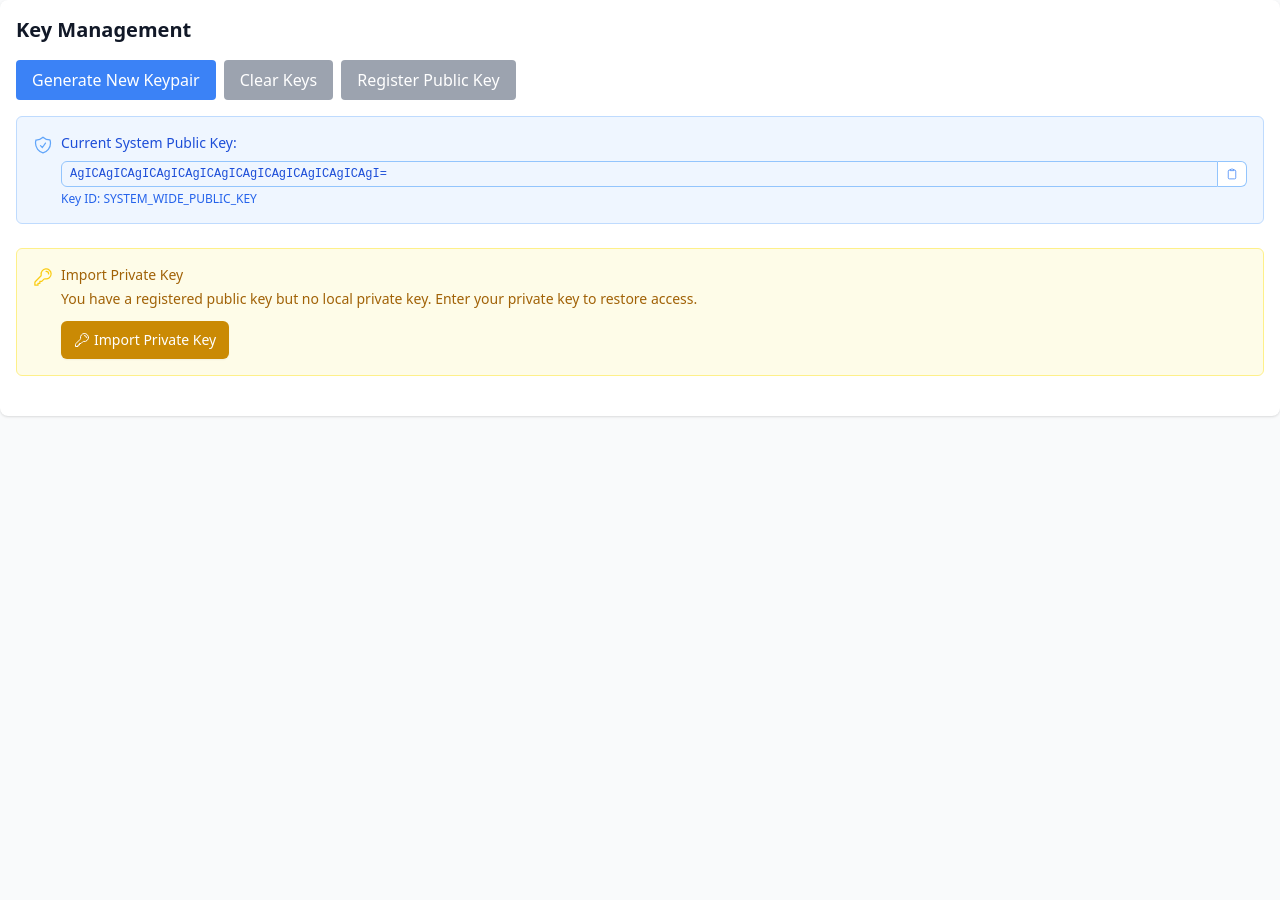
Test case: Key lifecycle workflow › validates private key import correctly
// Click the import button to show the form
Click the button "Import Private Key" at point(145, 340), box [61,321,229,359]
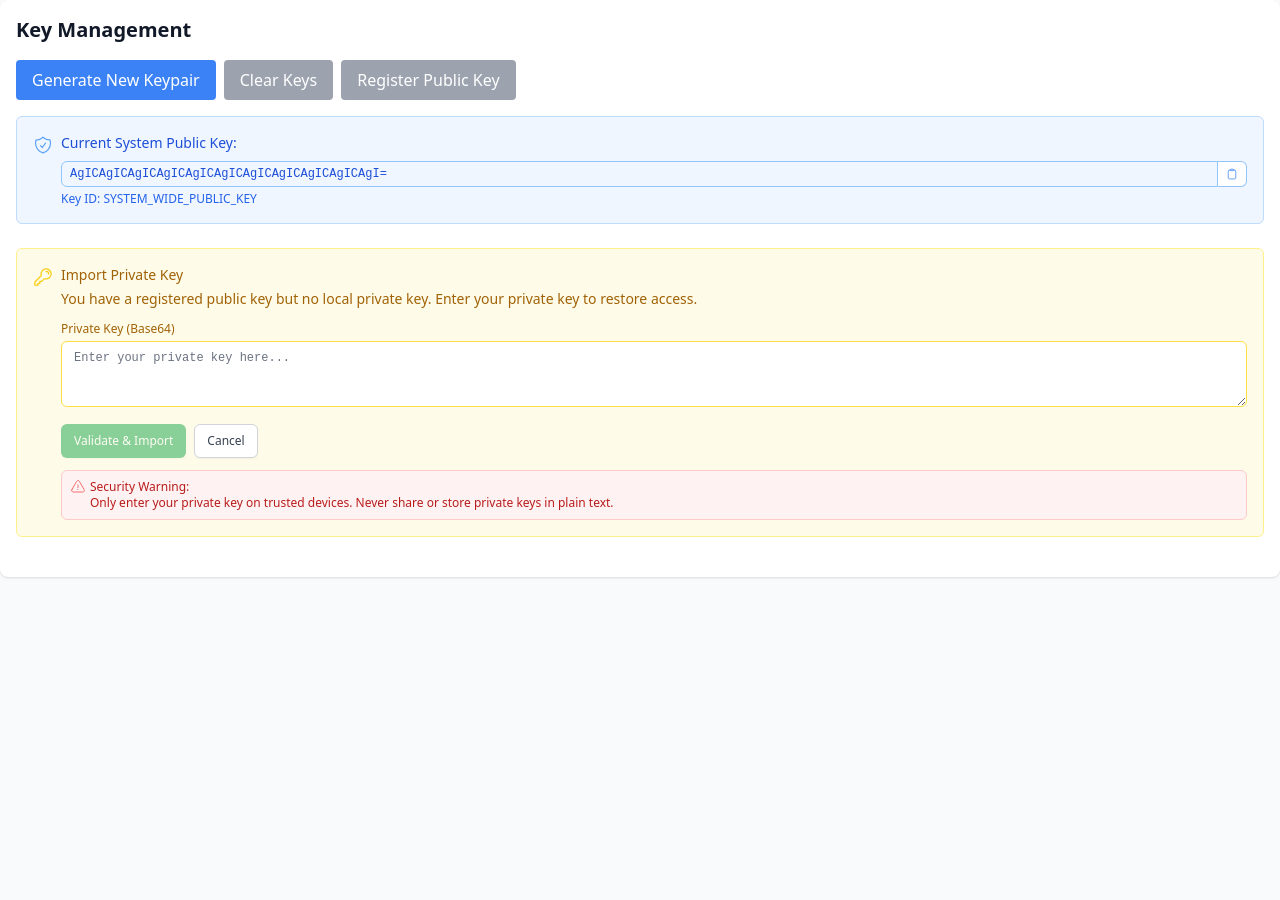
Expected: the text box with placeholder "Enter your private key here..." is shown
// Test with invalid private key
Type "invalid-key" into the text box with placeholder "Enter your private key here..." at point(654, 374), box [61,341,1247,407]
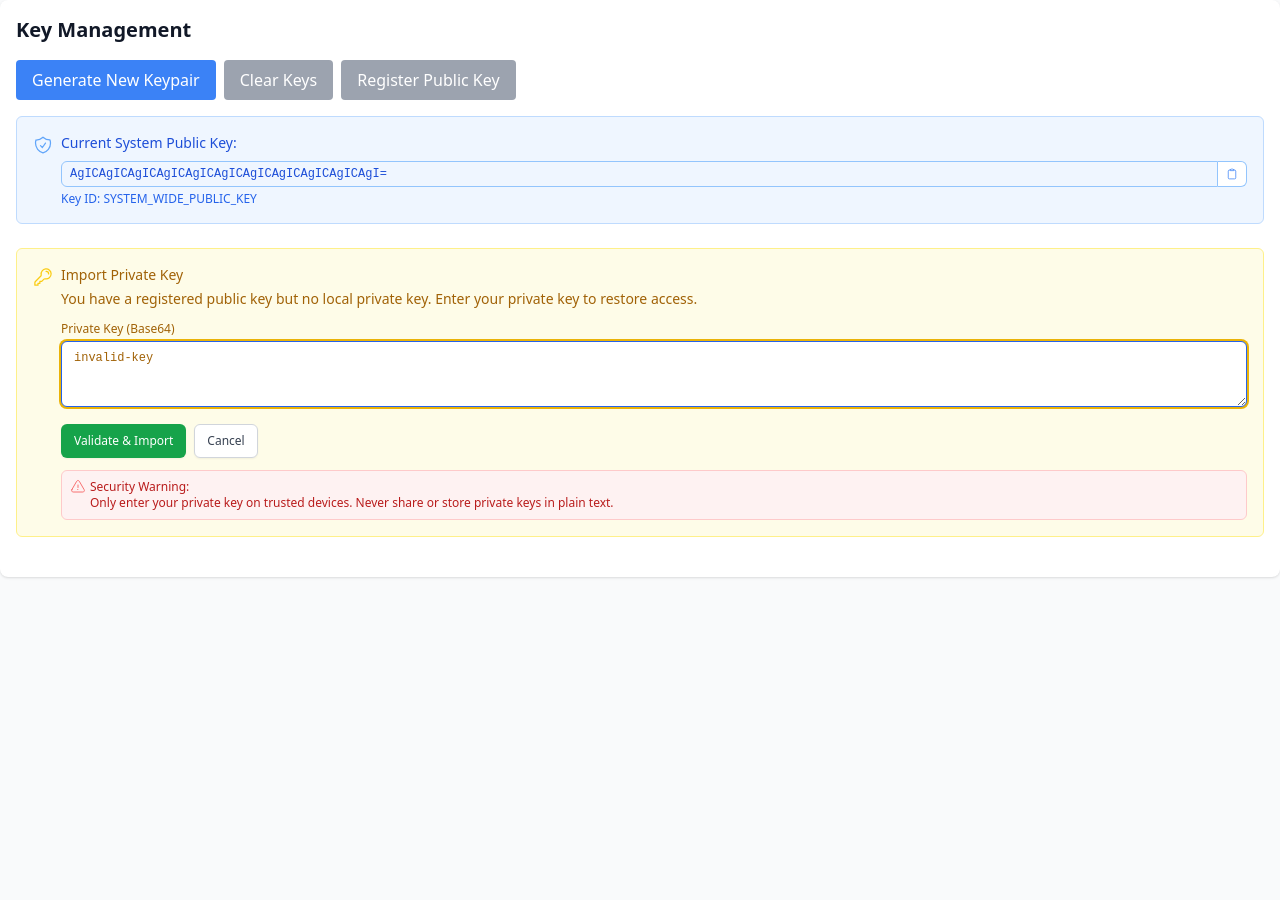
Click the button "Validate & Import" at point(124, 441), box [61,424,186,458]
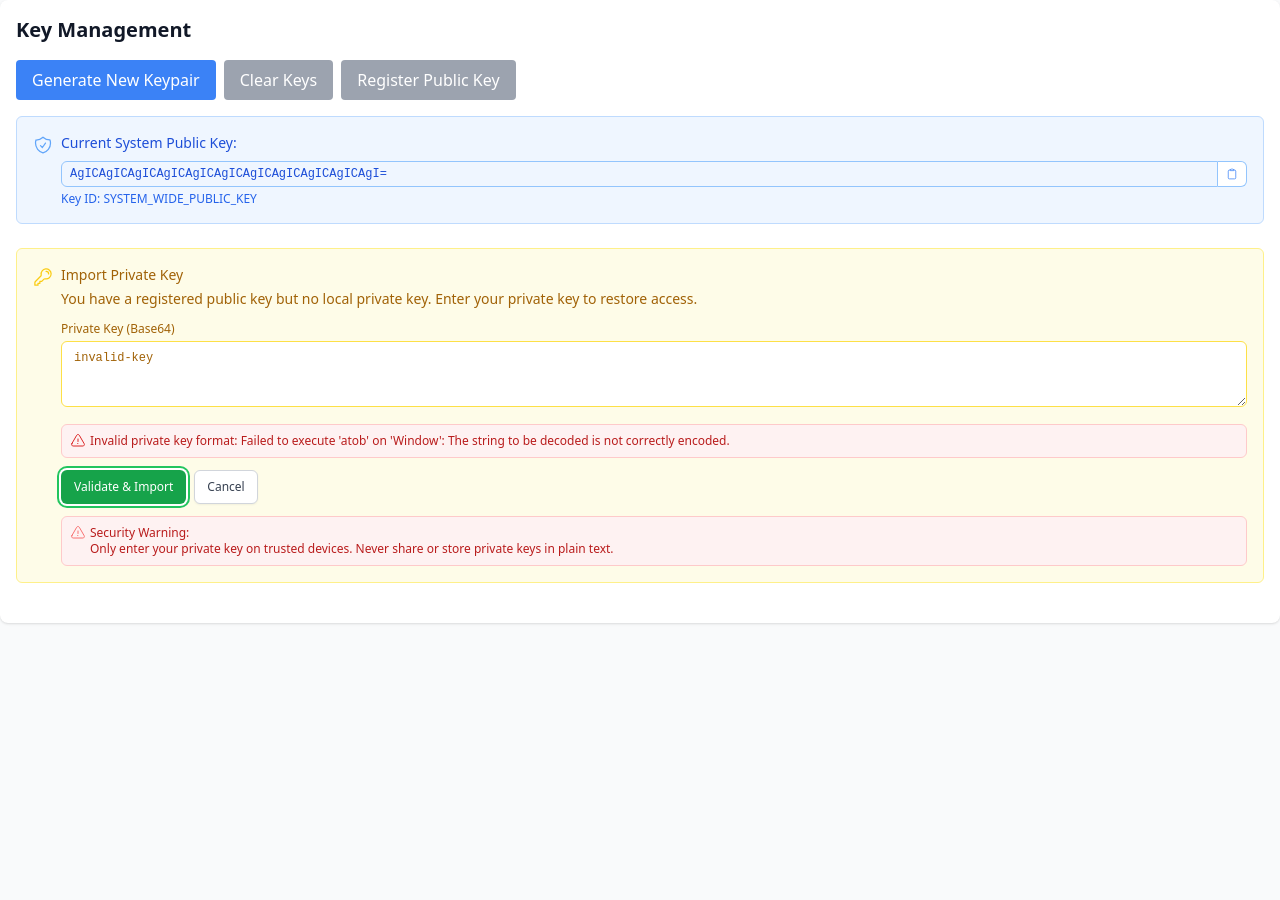
Expected: the text "Invalid private key format" is shown, [90,432,730,449]
// Clear the invalid input
Replace the text in the text box with placeholder "Enter your private key here..." with "AQEBAQEBAQEBAQEBAQEBAQEBAQEBAQEBAQEBAQE=" at point(654, 374), box [61,341,1247,407]
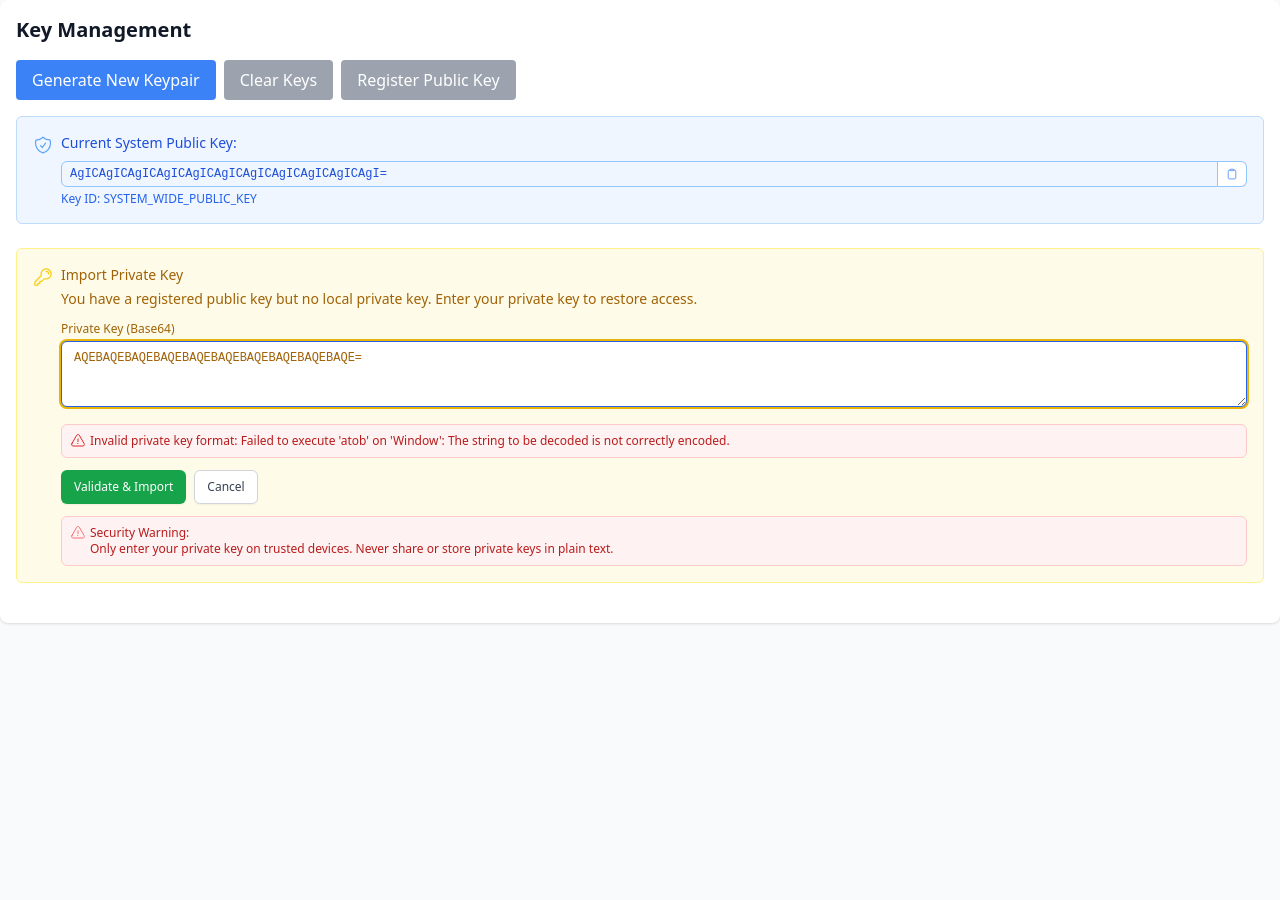
Click the button "Validate & Import" at point(124, 487), box [61,470,186,504]
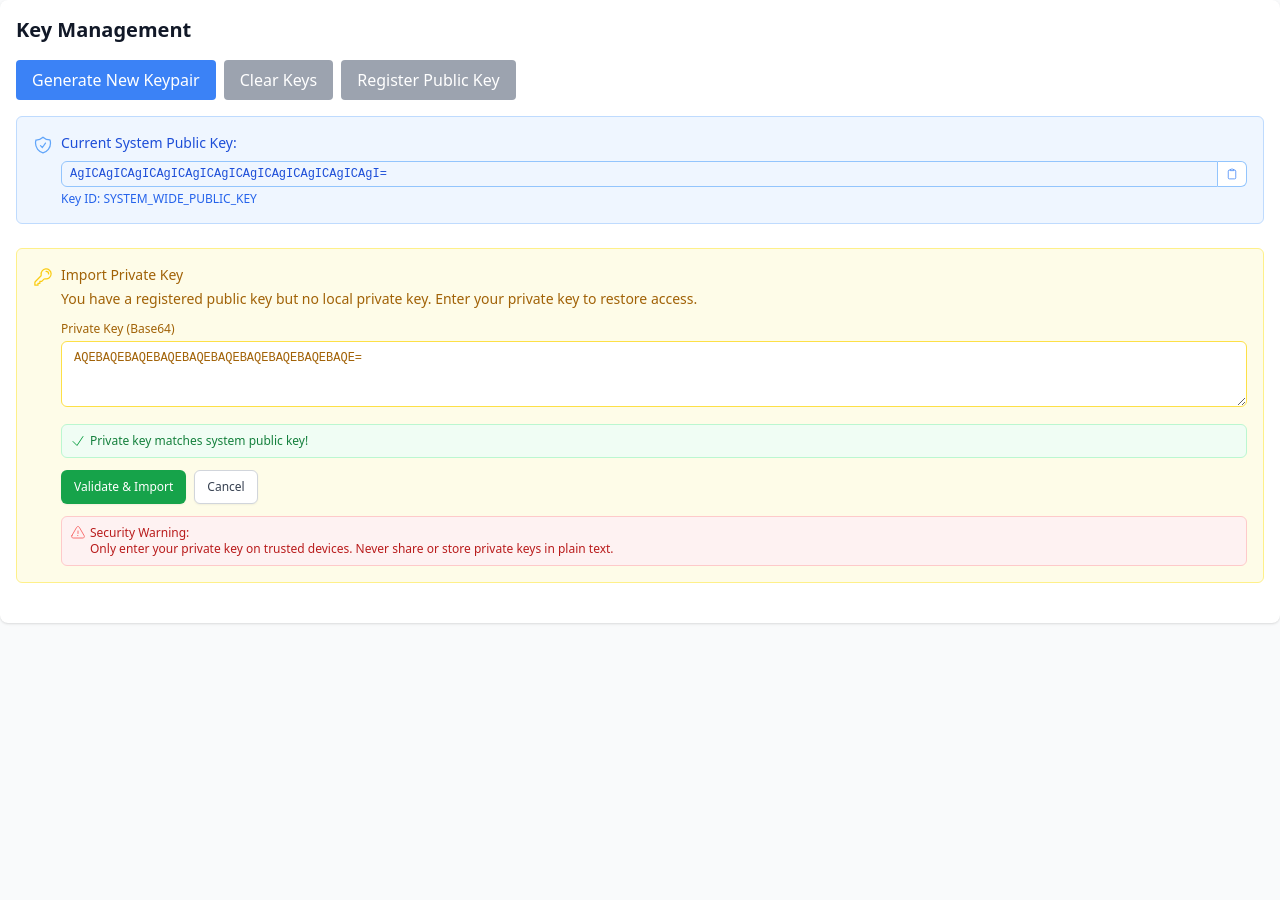
Expected: the text "Private key matches system public key!" is shown, [90,433,308,449]
